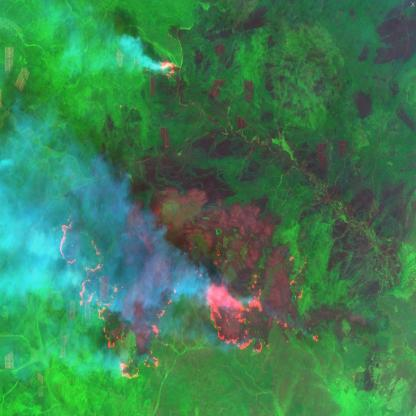fire: (57, 212, 180, 382), (204, 279, 274, 357), (158, 55, 180, 81)
